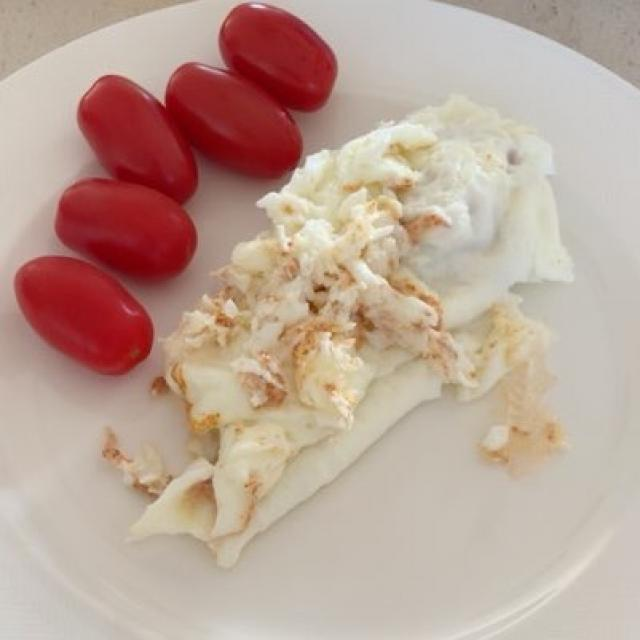tomato-raw: (0, 11, 346, 373)
